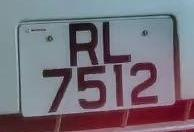1: (108, 61, 130, 111)
2: (123, 61, 165, 108)
5: (74, 62, 110, 115)
7: (34, 64, 80, 119)
L: (98, 17, 132, 69)
R: (63, 18, 104, 69)
